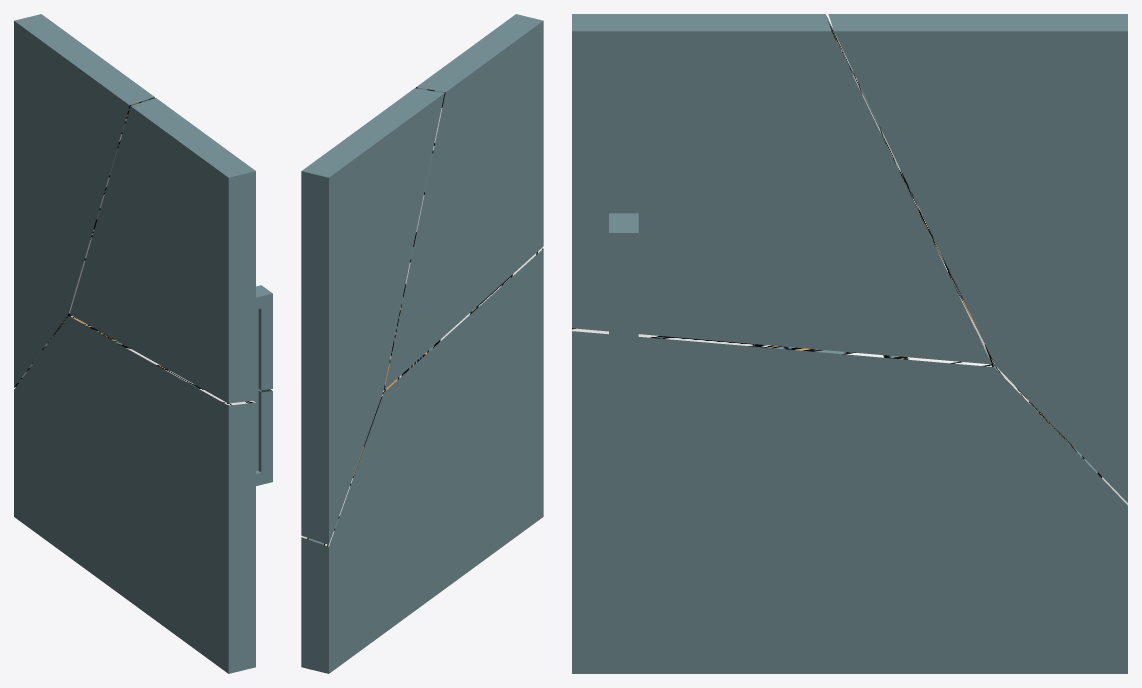
The model's file is Cabinet_Big_Door.005_cell.fbx.
The picture shows the model from 3 angles, left to right: view 1: azimuth 30°, elevation 25°; view 2: azimuth 150°, elevation 25°; view 3: azimuth 270°, elevation 25°; orthographic projection. The views are drawn at different scales.
Visible parts, largest first — view 1: Cabinet_Big_Door.005_cell, Cabinet_Big_Door.005_cell.002, Cabinet_Big_Door.005_cell.001, Cabinet_Big_Door.005_cell.004, Cabinet_Big_Door.005_cell.003; view 2: Cabinet_Big_Door.005_cell, Cabinet_Big_Door.005_cell.001, Cabinet_Big_Door.005_cell.002; view 3: Cabinet_Big_Door.005_cell, Cabinet_Big_Door.005_cell.002, Cabinet_Big_Door.005_cell.001, Cabinet_Big_Door.005_cell.004, Cabinet_Big_Door.005_cell.003.
Boxes of the visible parts, x1,y1,x2,y2 form: Cabinet_Big_Door.005_cell: (14,315,255,673); Cabinet_Big_Door.005_cell.002: (70,98,255,403); Cabinet_Big_Door.005_cell.001: (14,14,154,387); Cabinet_Big_Door.005_cell.004: (256,285,272,390); Cabinet_Big_Door.005_cell.003: (253,388,272,485); Cabinet_Big_Door.005_cell: (301,248,543,673); Cabinet_Big_Door.005_cell.001: (301,88,444,544); Cabinet_Big_Door.005_cell.002: (384,14,543,389); Cabinet_Big_Door.005_cell: (572,328,1127,673); Cabinet_Big_Door.005_cell.002: (572,14,991,364); Cabinet_Big_Door.005_cell.001: (828,14,1127,502); Cabinet_Big_Door.005_cell.004: (609,213,638,358); Cabinet_Big_Door.005_cell.003: (609,356,638,477).
Bounding box in the file's own units: 7.35 × 59.46 × 46.62.
